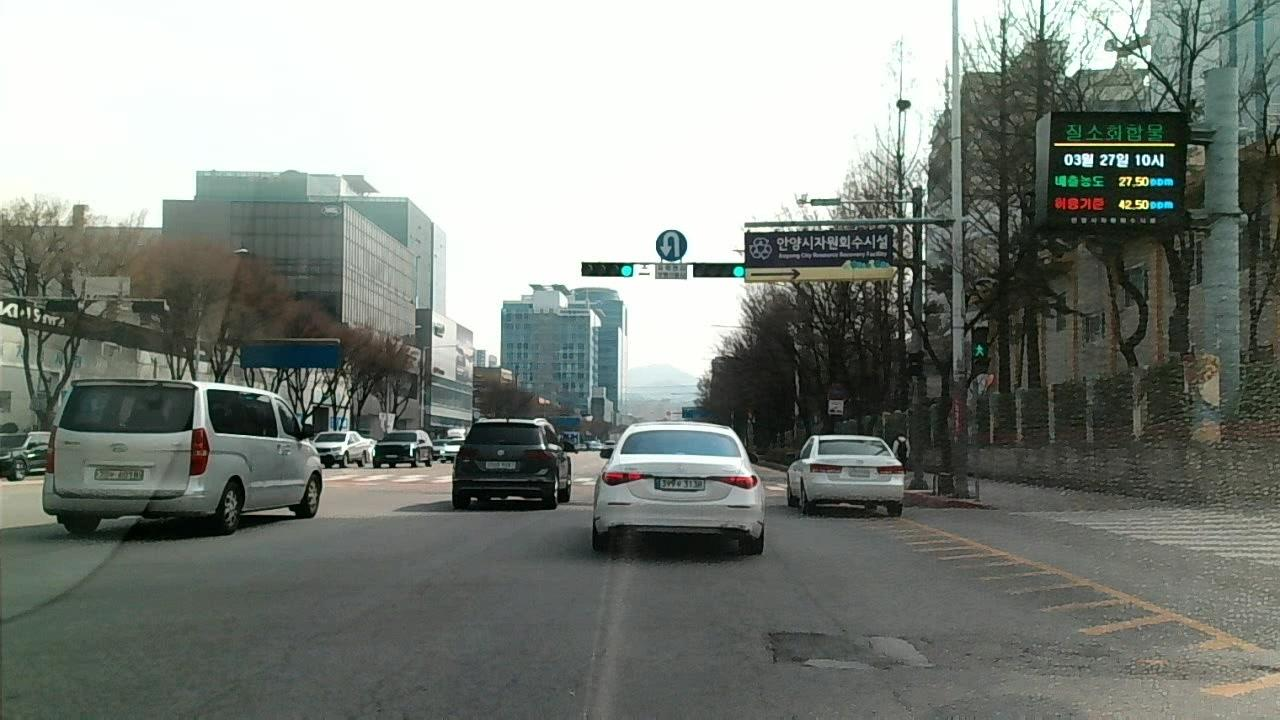erosion: (952, 635, 1194, 692)
